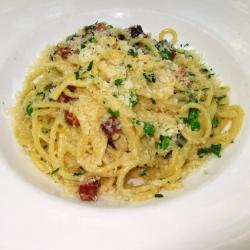carbonara: (12, 21, 246, 206)
